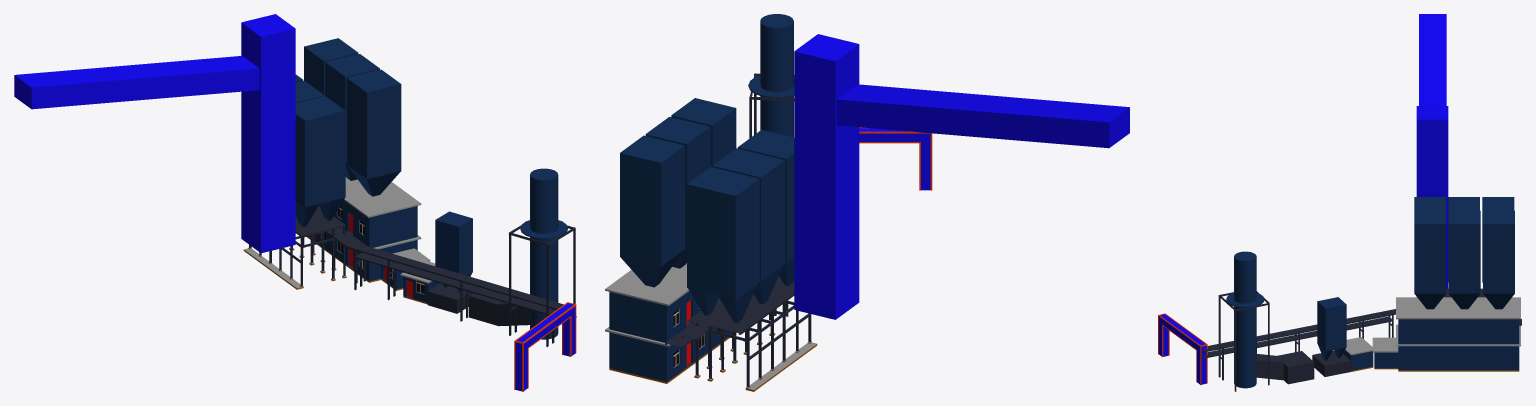
3 renders of one model, left to right at view 1: azimuth 30°, elevation 25°; view 2: azimuth 150°, elevation 25°; view 3: azimuth 270°, elevation 25°, orthographic. The views are drawn at different scales.
Visible parts, largest first — view 1: Box009; view 2: Box009; view 3: Box009.
Boxes of the visible parts, box(x1,y1,x2,y2) form: Box009: box(14, 14, 576, 391); Box009: box(605, 14, 1129, 391); Box009: box(1158, 14, 1521, 391).
Bounding box in the file's own units: 6210 × 3664 × 5699.
